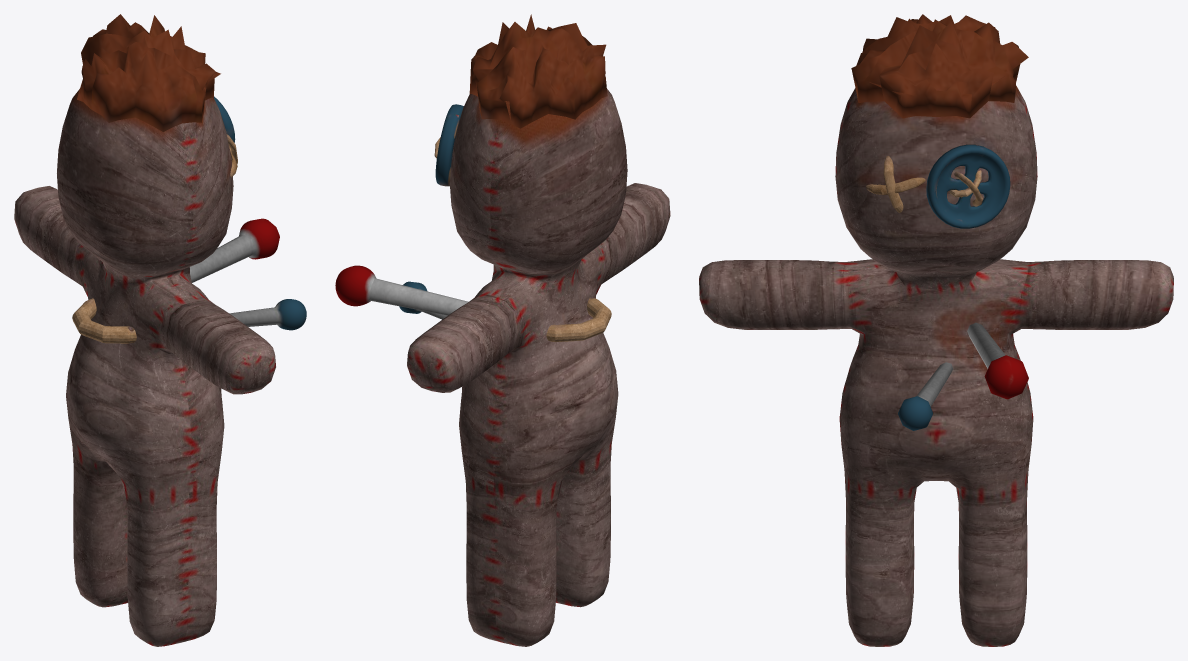
The model's file is voodoo_doll.glb.
3 renders of one model, left to right at view 1: azimuth 30°, elevation 25°; view 2: azimuth 150°, elevation 25°; view 3: azimuth 270°, elevation 25°, orthographic. The views are drawn at different scales.
Parts seen in each view (by area): view 1: Object_2; view 2: Object_2; view 3: Object_2.
Part boxes in pixels (box(x1,y1,x2,y2)): Object_2: box(14, 14, 306, 646); Object_2: box(335, 14, 670, 646); Object_2: box(699, 14, 1173, 646).
Bounding box in the file's own units: 1.91 × 4.58 × 3.16.
Materials: 1 (1 with a texture image).
